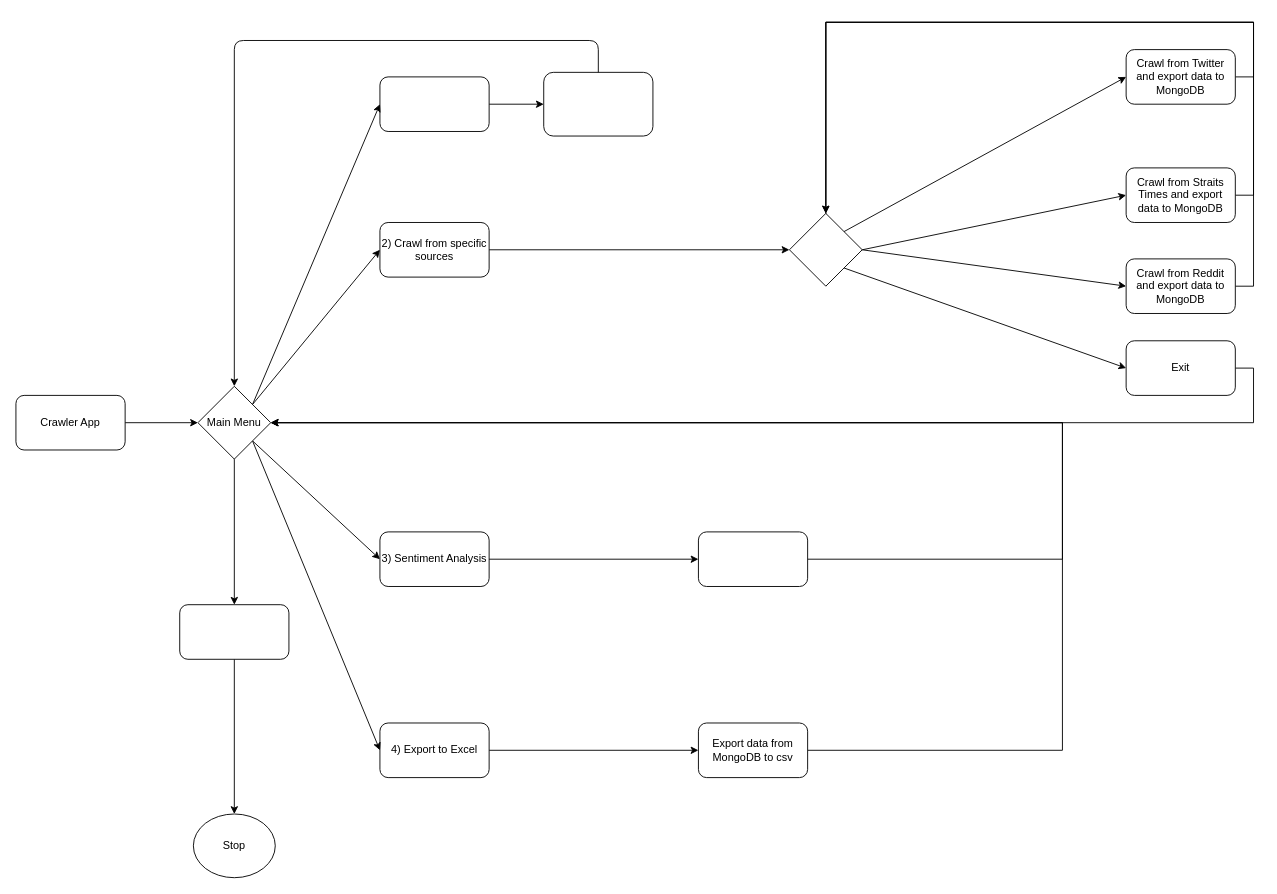
Image size: 1277x894. Some labels were removed from this diagram. The shapes that lost their labels are listed below. From the top down, each one's centre as x and y in pixels, then its label:
the point at 434,103: 1) Crawl from all sources
the point at 598,103: Crawl data from Twitter, Reddit, Straits Times and export data to MongoDB
the point at 825,249: Menu
the point at 753,558: Perform Sentiment Analysis and print results
the point at 234,631: 5)Exit
